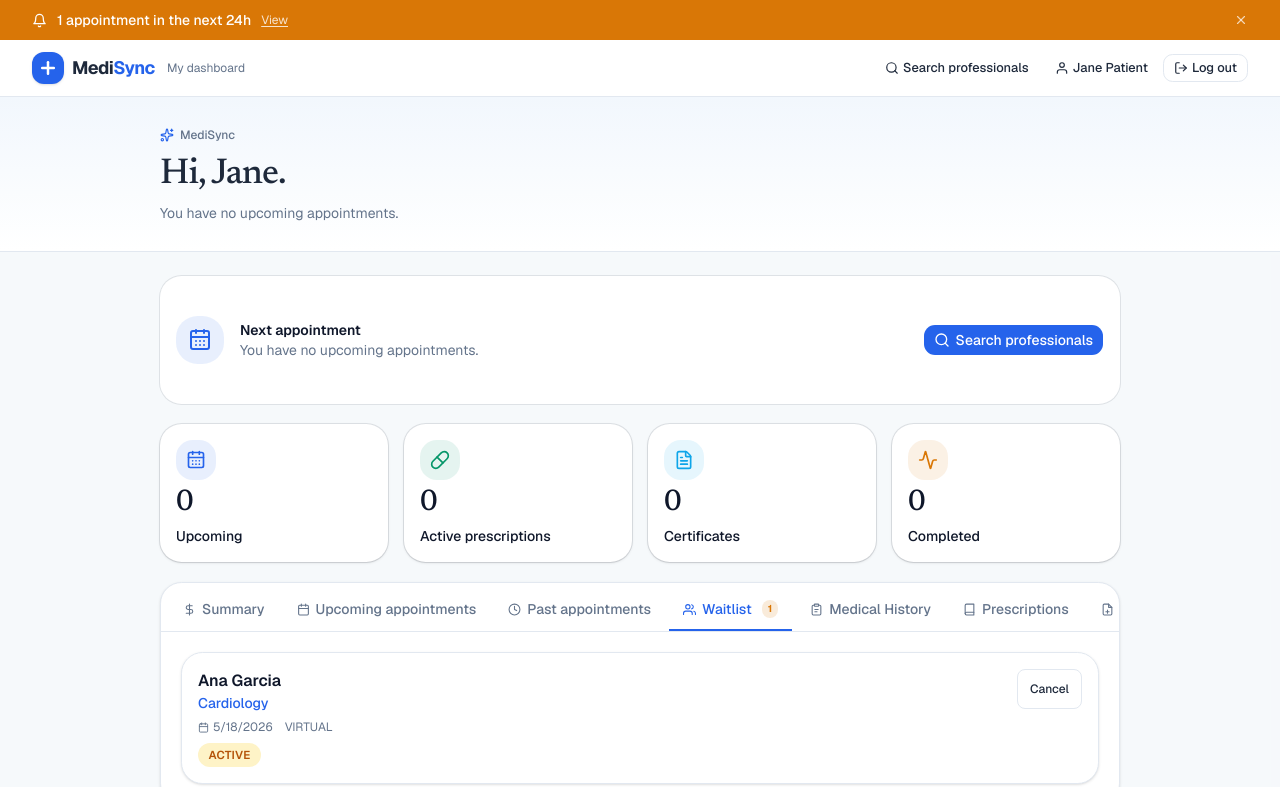
Test case: patient dashboard page i18n › shows translated waitlist removal fallback error
Expected: the text "Ana Garcia" is shown, x1=198 y1=670 x2=281 y2=691
Click the button "Cancel" at (1049, 689), box x1=1017 y1=669 x2=1082 y2=709
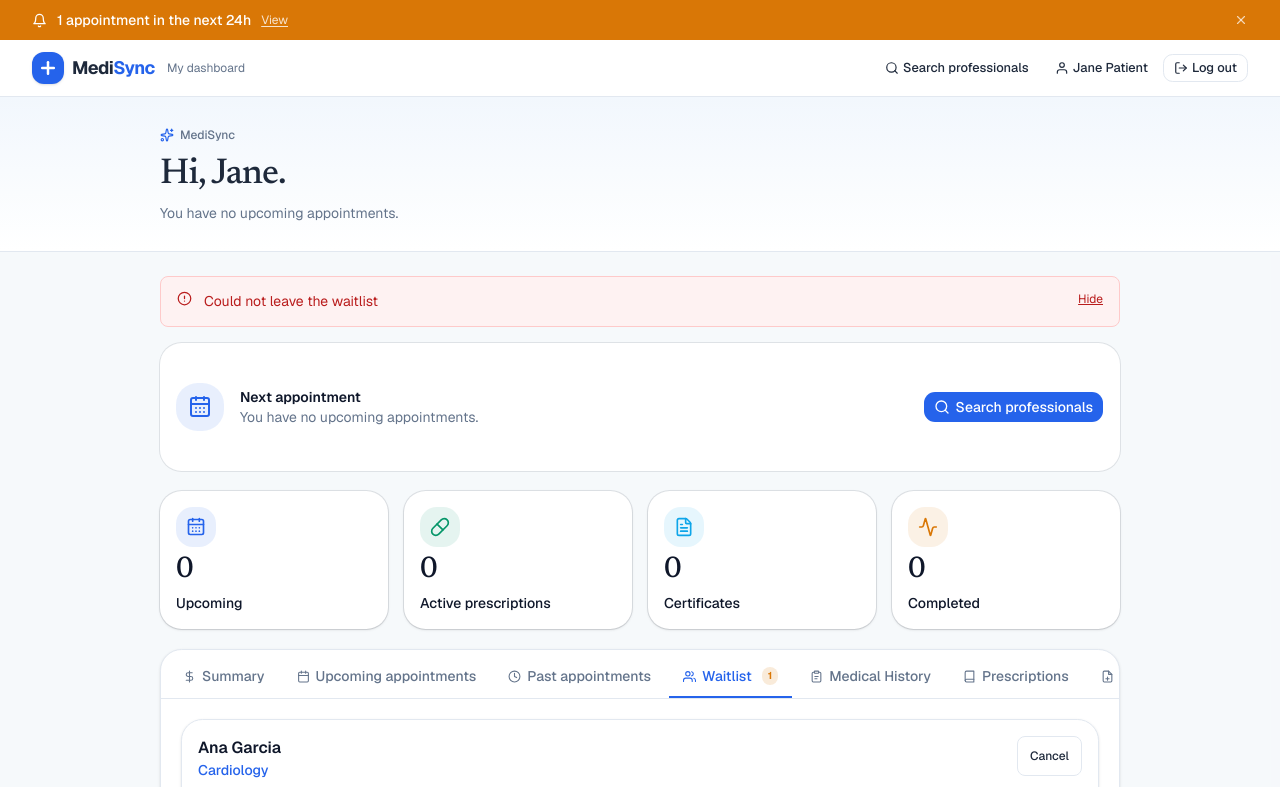
Now the text "Could not leave the waitlist" is shown, box x1=204 y1=291 x2=378 y2=312
